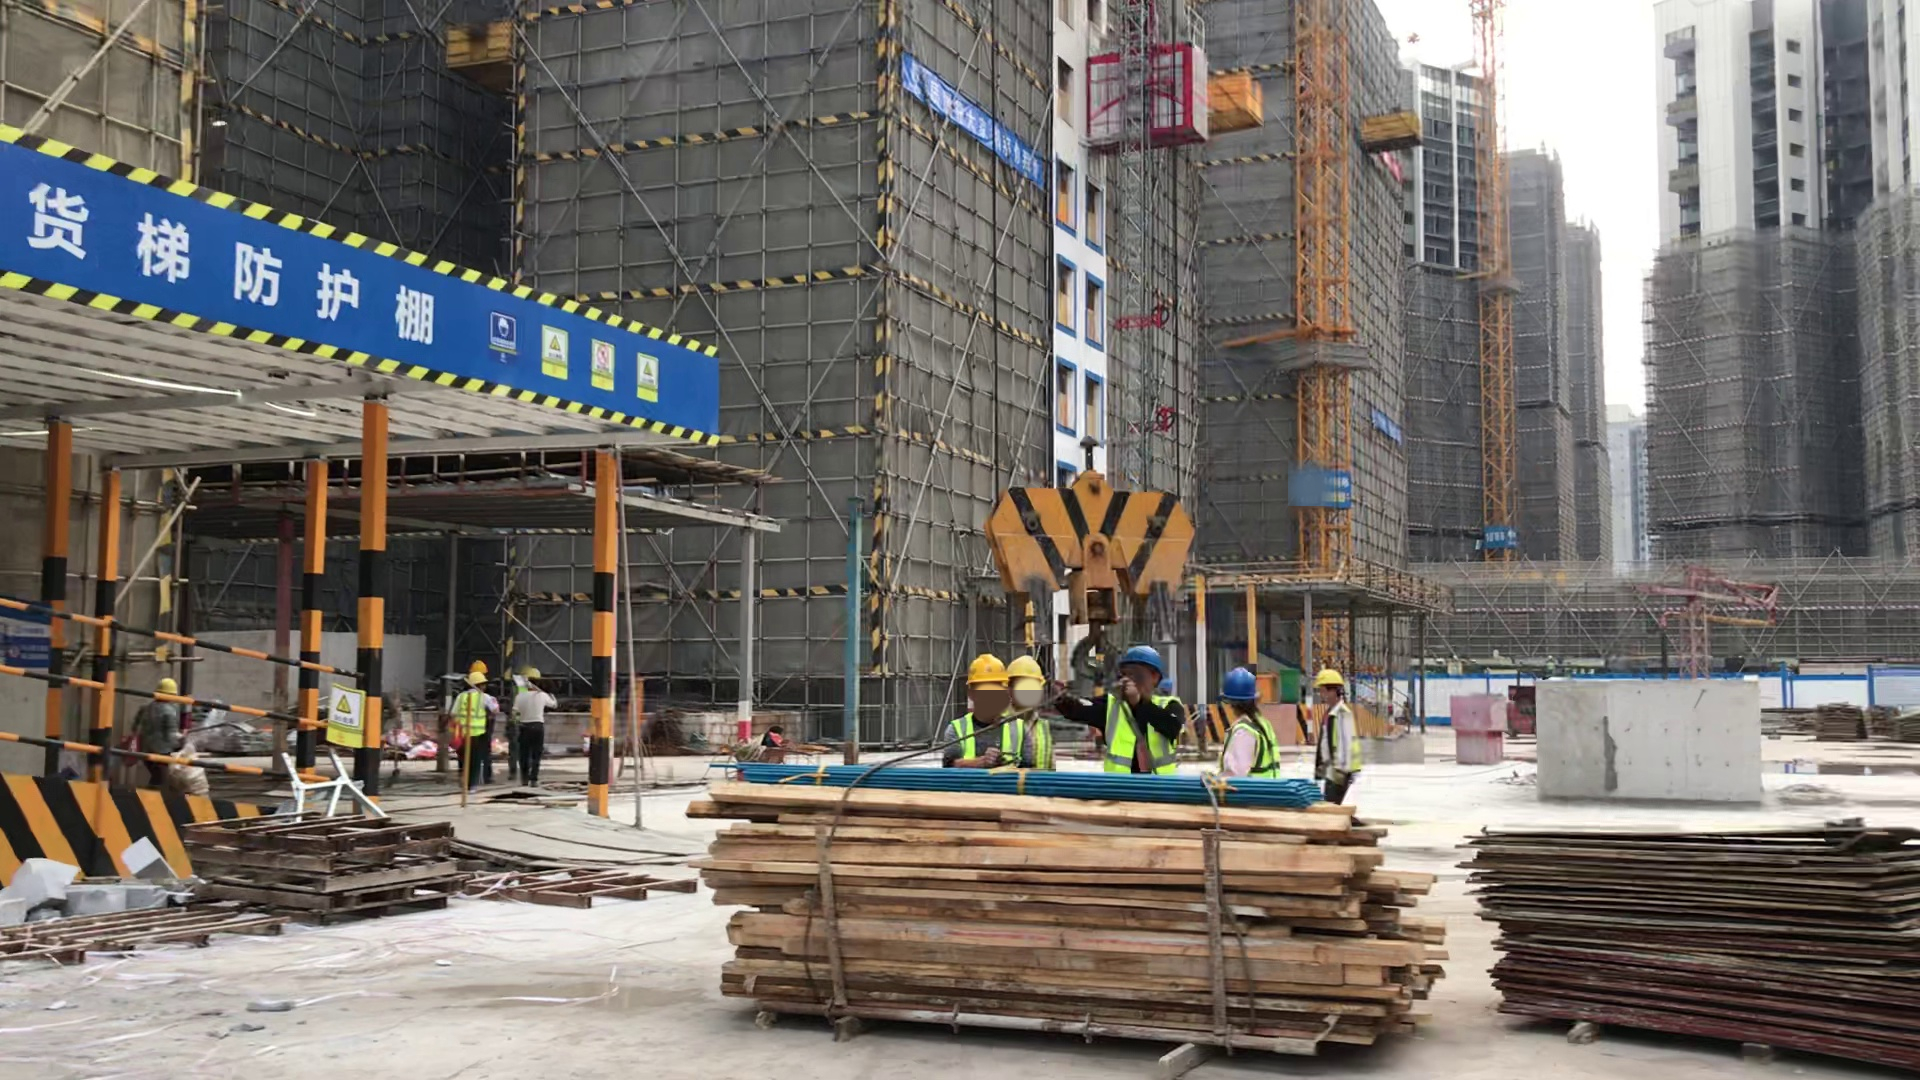board: (1470, 815, 1920, 1079)
handcart: (712, 729, 830, 784)
helmet: (1217, 667, 1266, 704), (1114, 645, 1172, 674), (966, 650, 1008, 687), (1006, 652, 1043, 687), (1312, 668, 1347, 692), (154, 677, 181, 698), (464, 671, 486, 687), (465, 659, 490, 672), (523, 666, 541, 681)
hook: (991, 458, 1196, 677)
person: (1084, 643, 1192, 776), (948, 645, 1033, 767), (1214, 664, 1284, 780), (1312, 665, 1366, 802), (1005, 651, 1060, 774), (134, 675, 188, 789), (452, 655, 497, 788), (516, 657, 553, 787)
slogan: (894, 52, 1044, 199), (479, 308, 656, 407), (319, 680, 372, 754), (1364, 401, 1408, 451), (1476, 518, 1521, 554)
wood: (708, 772, 1441, 1057)
